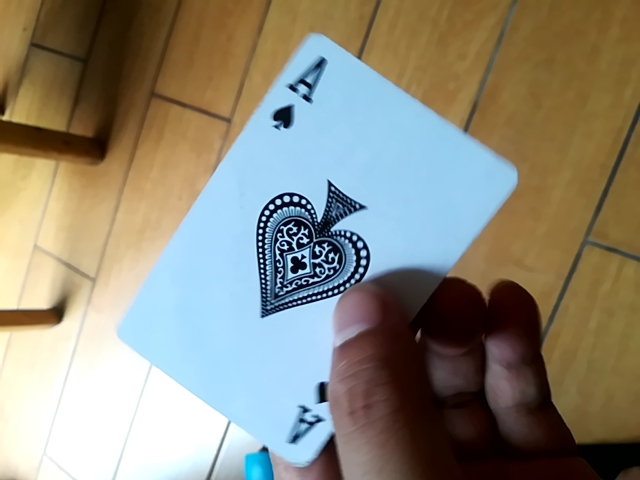ht a: (115, 31, 512, 471)
